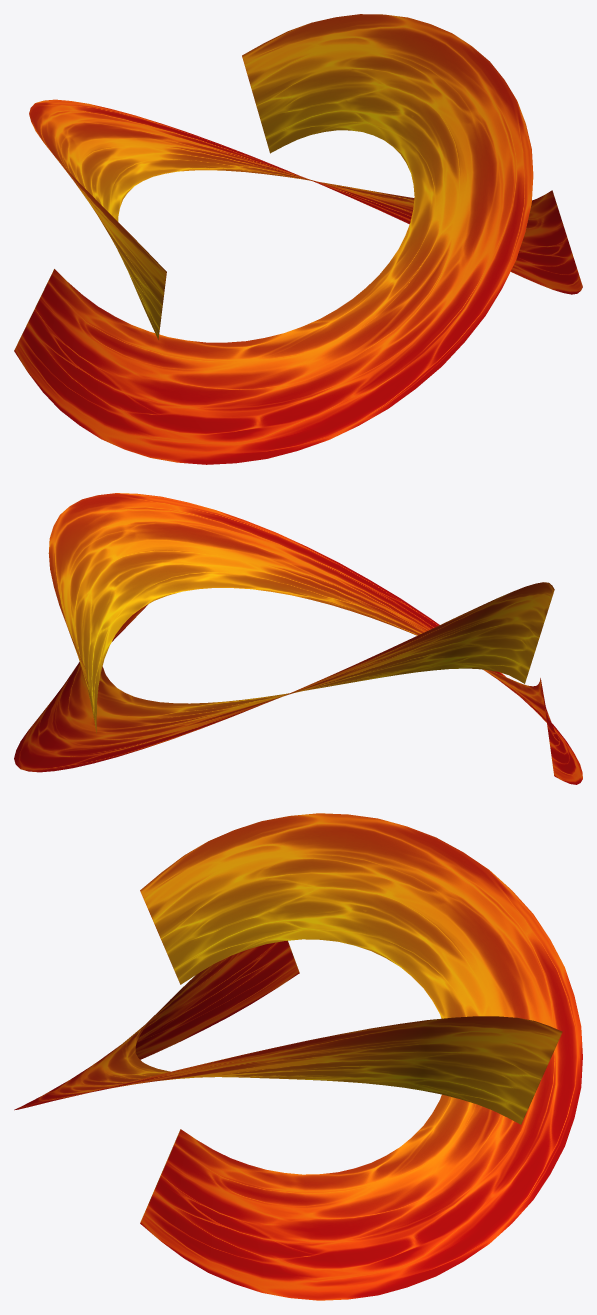
Rendered from VFX_Round_Sworl.fbx.
3 renders of one model, top to bottom at view 1: azimuth 30°, elevation 25°; view 2: azimuth 150°, elevation 25°; view 3: azimuth 270°, elevation 25°, orthographic. The views are drawn at different scales.
Visible parts, largest first — view 1: Round_Sworl; view 2: Round_Sworl; view 3: Round_Sworl.
Part boxes in pixels (box(x1,y1,x2,y2)): Round_Sworl: box(14, 14, 582, 464); Round_Sworl: box(14, 493, 582, 784); Round_Sworl: box(14, 813, 582, 1300).
Size of the model in its own units: 252 by 111 by 229.
